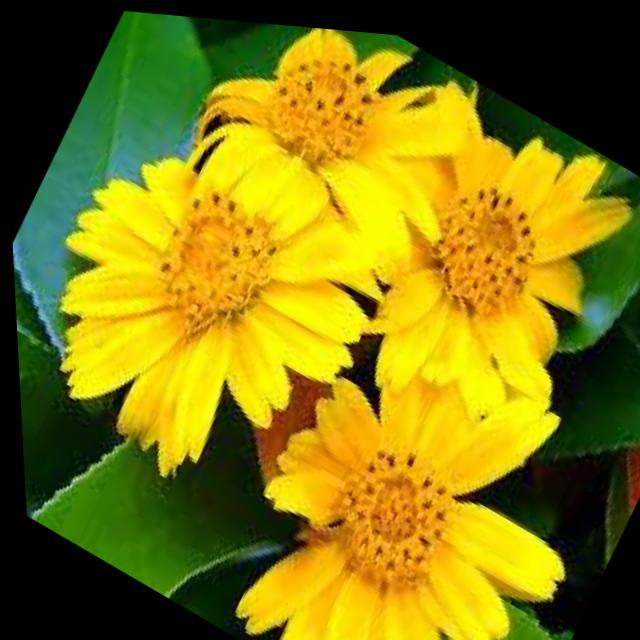Flower: (2, 61, 428, 545), (176, 260, 640, 640), (319, 69, 640, 451), (169, 12, 488, 289)
